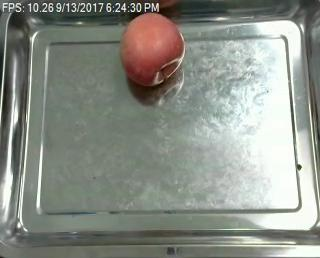apple: (120, 12, 185, 86)
